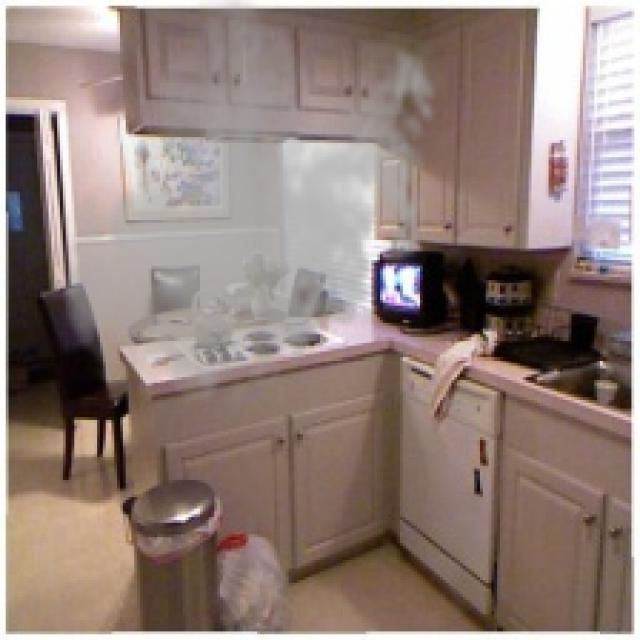Smoke: (54, 0, 449, 417)
